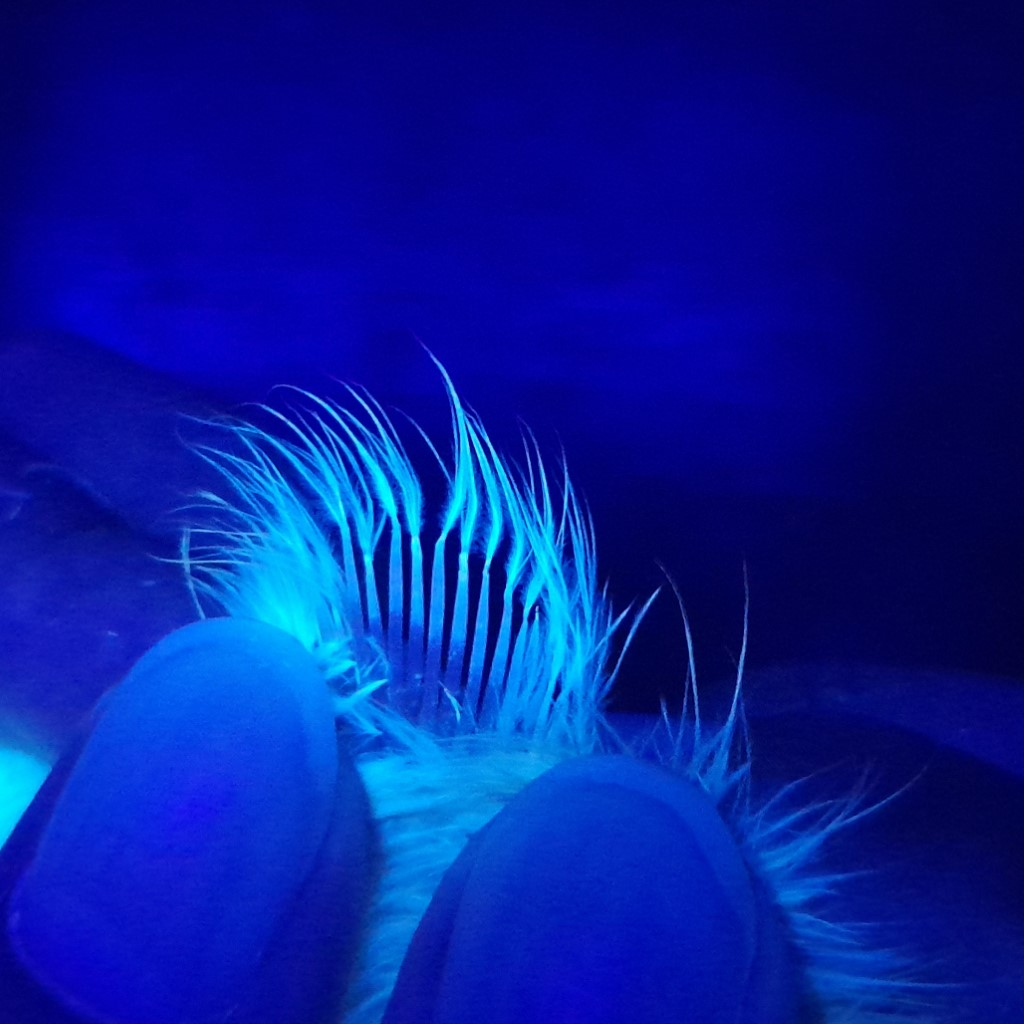male: (311, 479, 614, 774)
